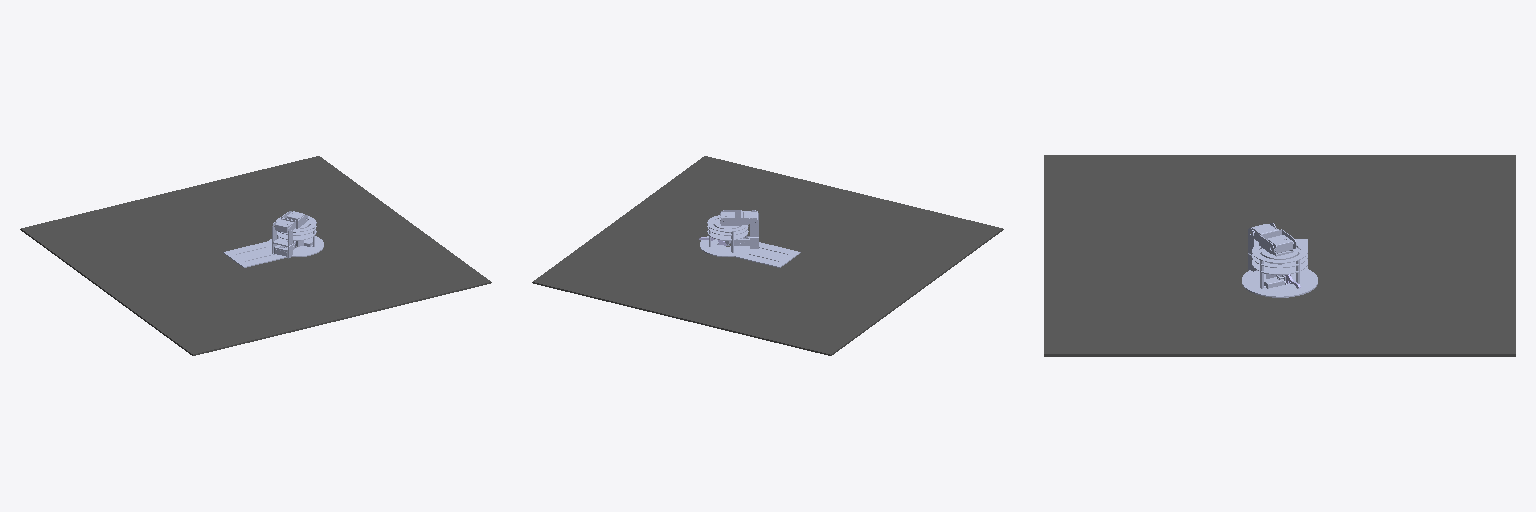
URDF robot description (buzz_arm):
<?xml version="1.0" encoding="utf-8"?>
<!-- This URDF was automatically created by SolidWorks to URDF Exporter! Originally created by Stephen Brawner (brawner@gmail.com) 
     Commit Version: 1.6.0-4-g7f85cfe  Build Version: 1.6.7995.38578
     For more information, please see http://wiki.ros.org/sw_urdf_exporter -->
<robot
  name="buzz_arm">
  <link
    name="base_link">
    <inertial>
      <origin
        xyz="0.097254 -0.0016458 0.017214"
        rpy="0 0 0" />
      <mass
        value="0.50845" />
      <inertia
        ixx="0.00087178"
        ixy="-1.41E-06"
        ixz="-0.00024544"
        iyy="0.0027281"
        iyz="-1.0365E-06"
        izz="0.0031309" />
    </inertial>
    <visual>
      <origin
        xyz="0 0 0"
        rpy="0 0 0" />
      <geometry>
        <mesh
          filename="package://buzz_arm_description/meshes/base_link.STL" />
      </geometry>
      <material
        name="">
        <color
          rgba="0.79216 0.81961 0.93333 1" />
      </material>
    </visual>
    <collision>
      <origin
        xyz="0 0 0"
        rpy="0 0 0" />
      <geometry>
        <mesh
          filename="package://buzz_arm_description/meshes/base_link.STL" />
      </geometry>
    </collision>
  </link>
  <link
    name="Link_1">
    <inertial>
      <origin
        xyz="1.1384E-05 1.4153E-05 0.009275"
        rpy="0 0 0" />
      <mass
        value="0.18466" />
      <inertia
        ixx="6.645E-05"
        ixy="3.4413E-07"
        ixz="2.1539E-08"
        iyy="6.6048E-05"
        iyz="1.2436E-08"
        izz="0.00012603" />
    </inertial>
    <visual>
      <origin
        xyz="0 0 0"
        rpy="0 0 0" />
      <geometry>
        <mesh
          filename="package://buzz_arm_description/meshes/Link_1.STL" />
      </geometry>
      <material
        name="">
        <color
          rgba="0.79216 0.81961 0.93333 1" />
      </material>
    </visual>
    <collision>
      <origin
        xyz="0 0 0"
        rpy="0 0 0" />
      <geometry>
        <mesh
          filename="package://buzz_arm_description/meshes/Link_1.STL" />
      </geometry>
    </collision>
  </link>
  <joint
    name="Revolute_1"
    type="revolute">
    <origin
      xyz="0.13407 0 0.06083"
      rpy="0 0 0" />
    <parent
      link="base_link" />
    <child
      link="Link_1" />
    <axis
      xyz="0 0 1" />
    <limit
      lower="0"
      upper="3.14159"
      effort="1.5"
      velocity="4.5" />
    <dynamics
      damping="0.05"
      friction="0.1" />
  </joint>
  <link
    name="Link_2">
    <inertial>
      <origin
        xyz="-0.057899 -1.3878E-17 0.00055042"
        rpy="0 0 0" />
      <mass
        value="0.061662" />
      <inertia
        ixx="2.268E-05"
        ixy="1.2326E-20"
        ixz="2.2166E-07"
        iyy="3.8426E-05"
        iyz="1.5325E-20"
        izz="2.0832E-05" />
    </inertial>
    <visual>
      <origin
        xyz="0 0 0"
        rpy="0 0 0" />
      <geometry>
        <mesh
          filename="package://buzz_arm_description/meshes/Link_2.STL" />
      </geometry>
      <material
        name="">
        <color
          rgba="0.79216 0.81961 0.93333 1" />
      </material>
    </visual>
    <collision>
      <origin
        xyz="0 0 0"
        rpy="0 0 0" />
      <geometry>
        <mesh
          filename="package://buzz_arm_description/meshes/Link_2.STL" />
      </geometry>
    </collision>
  </link>
  <joint
    name="Revolute_2"
    type="revolute">
    <origin
      xyz="0.0085986 0.0054667 0.02675"
      rpy="1.5708 0 0.5236" />
    <parent
      link="Link_1" />
    <child
      link="Link_2" />
    <axis
      xyz="0 0 -1" />
    <limit
      lower="0"
      upper="3.05433"
      effort="1.5"
      velocity="4.5" />
    <dynamics
      damping="0.05"
      friction="0.1" />
  </joint>
  <link
    name="Link_3">
    <inertial>
      <origin
        xyz="0.0066591 -0.082336 0.00039702"
        rpy="0 0 0" />
      <mass
        value="0.1307" />
      <inertia
        ixx="5.6531E-05"
        ixy="1.2062E-21"
        ixz="5.5872E-09"
        iyy="5.1139E-05"
        iyz="2.3927E-20"
        izz="3.2837E-05" />
    </inertial>
    <visual>
      <origin
        xyz="0 0 0"
        rpy="0 0 0" />
      <geometry>
        <mesh
          filename="package://buzz_arm_description/meshes/Link_3.STL" />
      </geometry>
      <material
        name="">
        <color
          rgba="0.79216 0.81961 0.93333 1" />
      </material>
    </visual>
    <collision>
      <origin
        xyz="0 0 0"
        rpy="0 0 0" />
      <geometry>
        <mesh
          filename="package://buzz_arm_description/meshes/Link_3.STL" />
      </geometry>
    </collision>
  </link>
  <joint
    name="Revolute_3"
    type="revolute">
    <origin
      xyz="-0.08668 0 0.00087"
      rpy="0 0 0" />
    <parent
      link="Link_2" />
    <child
      link="Link_3" />
    <axis
      xyz="0 0 -1" />
    <limit
      lower="0"
      upper="3.15905"
      effort="1.5"
      velocity="4.5" />
    <dynamics
      damping="0.05"
      friction="0.1" />
  </joint>
  <link
    name="Link_4">
    <inertial>
      <origin
        xyz="0.018863 0.012979 0.00041813"
        rpy="0 0 0" />
      <mass
        value="0.082347" />
      <inertia
        ixx="1.9474E-05"
        ixy="8.0561E-07"
        ixz="-4.5867E-09"
        iyy="2.3704E-05"
        iyz="-6.4294E-09"
        izz="2.4868E-05" />
    </inertial>
    <visual>
      <origin
        xyz="0 0 0"
        rpy="0 0 0" />
      <geometry>
        <mesh
          filename="package://buzz_arm_description/meshes/Link_4.STL" />
      </geometry>
      <material
        name="">
        <color
          rgba="0.79216 0.81961 0.93333 1" />
      </material>
    </visual>
    <collision>
      <origin
        xyz="0 0 0"
        rpy="0 0 0" />
      <geometry>
        <mesh
          filename="package://buzz_arm_description/meshes/Link_4.STL" />
      </geometry>
    </collision>
  </link>
  <joint
    name="Revolute_4"
    type="revolute">
    <origin
      xyz="0 -0.099 -0.00087"
      rpy="0 0 0" />
    <parent
      link="Link_3" />
    <child
      link="Link_4" />
    <axis
      xyz="0 0 -1" />
    <limit
      lower="0"
      upper="3.15905"
      effort="1.5"
      velocity="4.5" />
    <dynamics
      damping="0.05"
      friction="0.1" />
  </joint>
  <link
    name="Link_5">
    <inertial>
      <origin
        xyz="-0.003947 -0.018259 0.025684"
        rpy="0 0 0" />
      <mass
        value="0.053134" />
      <inertia
        ixx="8.5142E-06"
        ixy="6.9871E-09"
        ixz="1.3332E-08"
        iyy="1.0803E-05"
        iyz="7.4039E-10"
        izz="1.3976E-05" />
    </inertial>
    <visual>
      <origin
        xyz="0 0 0"
        rpy="0 0 0" />
      <geometry>
        <mesh
          filename="package://buzz_arm_description/meshes/Link_5.STL" />
      </geometry>
      <material
        name="">
        <color
          rgba="0.79216 0.81961 0.93333 1" />
      </material>
    </visual>
    <collision>
      <origin
        xyz="0 0 0"
        rpy="0 0 0" />
      <geometry>
        <mesh
          filename="package://buzz_arm_description/meshes/Link_5.STL" />
      </geometry>
    </collision>
  </link>
  <joint
    name="Revolute_5"
    type="revolute">
    <origin
      xyz="0.06237 0 0.000435"
      rpy="-1.5708 0 -1.5708" />
    <parent
      link="Link_4" />
    <child
      link="Link_5" />
    <axis
      xyz="0 0 -1" />
    <limit
      lower="0"
      upper="3.15905"
      effort="1.5"
      velocity="4.5" />
    <dynamics
      damping="0.05"
      friction="0.1" />
  </joint>
  <link
    name="Joint_RFinger">
    <inertial>
      <origin
        xyz="-0.012502 -0.021105 -0.0060164"
        rpy="0 0 0" />
      <mass
        value="0.0042283" />
      <inertia
        ixx="5.3471E-07"
        ixy="-2.2031E-07"
        ixz="1.033E-09"
        iyy="2.7707E-07"
        iyz="1.3462E-09"
        izz="8.0771E-07" />
    </inertial>
    <visual>
      <origin
        xyz="0 0 0"
        rpy="0 0 0" />
      <geometry>
        <mesh
          filename="package://buzz_arm_description/meshes/Joint_RFinger.STL" />
      </geometry>
      <material
        name="">
        <color
          rgba="0.82353 0.82353 1 1" />
      </material>
    </visual>
    <collision>
      <origin
        xyz="0 0 0"
        rpy="0 0 0" />
      <geometry>
        <mesh
          filename="package://buzz_arm_description/meshes/Joint_RFinger.STL" />
      </geometry>
    </collision>
  </link>
  <joint
    name="Revolute_RFinger"
    type="revolute">
    <origin
      xyz="-0.040562 0 0.044043"
      rpy="-3.087 -1.5708 -1.627" />
    <parent
      link="Link_5" />
    <child
      link="Joint_RFinger" />
    <axis
      xyz="0 0 -1" />
    <limit
      lower="0"
      upper="0.62832"
      effort="1.5"
      velocity="4.5" />
    <dynamics
      damping="0.05"
      friction="0.1" />
  </joint>
  <link
    name="Link_RFinger">
    <inertial>
      <origin
        xyz="0.000839201493488512 -0.00410798201228263 0.00237274137090851"
        rpy="0 0 0" />
      <mass
        value="0.00599736791043469" />
      <inertia
        ixx="2.42089492555939E-07"
        ixy="-2.24614229258946E-07"
        ixz="4.19118898581568E-07"
        iyy="1.64318228994709E-06"
        iyz="9.038809859373E-08"
        izz="1.52296342251296E-06" />
    </inertial>
    <visual>
      <origin
        xyz="0 0 0"
        rpy="0 0 0" />
      <geometry>
        <mesh
          filename="package://buzz_arm_description/meshes/Link_RFinger.STL" />
      </geometry>
      <material
        name="">
        <color
          rgba="0.823529411764706 0.823529411764706 1 1" />
      </material>
    </visual>
    <collision>
      <origin
        xyz="0 0 0"
        rpy="0 0 0" />
      <geometry>
        <mesh
          filename="package://buzz_arm_description/meshes/Link_RFinger.STL" />
      </geometry>
    </collision>
  </link>
  <joint
    name="Link_RFinger"
    type="fixed">
    <origin
      xyz="0.019619 -0.0099553 0.0025"
      rpy="1.0788 0 2.672" />
    <parent
      link="Joint_RFinger" />
    <child
      link="Link_RFinger" />
    <axis
      xyz="0 0 0" />
  </joint>
  <link
    name="Joint_LFinger">
    <inertial>
      <origin
        xyz="-0.0122706285367348 -0.0212400470250521 0.00606962107186289"
        rpy="0 0 0" />
      <mass
        value="0.00422828715450971" />
      <inertia
        ixx="5.39489654753294E-07"
        ixy="-2.17439310468456E-07"
        ixz="1.01821288783147E-09"
        iyy="2.72285288493111E-07"
        iyz="1.35741631786404E-09"
        izz="8.07707307315944E-07" />
    </inertial>
    <visual>
      <origin
        xyz="0 0 0"
        rpy="0 0 0" />
      <geometry>
        <mesh
          filename="package://buzz_arm_description/meshes/Joint_LFinger.STL" />
      </geometry>
      <material
        name="">
        <color
          rgba="0.823529411764706 0.823529411764706 1 1" />
      </material>
    </visual>
    <collision>
      <origin
        xyz="0 0 0"
        rpy="0 0 0" />
      <geometry>
        <mesh
          filename="package://buzz_arm_description/meshes/Joint_LFinger.STL" />
      </geometry>
    </collision>
  </link>
  <joint
    name="Mimic_LFinger"
    type="revolute">
    <origin
      xyz="0.040967 0 0.043761"
      rpy="-0.14 -1.5708 -1.4155" />
    <parent
      link="Link_5" />
    <child
      link="Joint_LFinger" />
    <axis
      xyz="0 0 -1" />
    <limit
      lower="0"
      upper="0.62832"
      effort="1.5"
      velocity="4.5" />
    <dynamics
      damping="0.05"
      friction="0.1" />
    <mimic
      joint="Revolute_RFinger"
      multiplier="1"
      offset="0" />
  </joint>
  <link
    name="Link_LFinger">
    <inertial>
      <origin
        xyz="0.000839201493488123 0.00390818923858993 0.00268914014172311"
        rpy="0 0 0" />
      <mass
        value="0.00599736791043469" />
      <inertia
        ixx="2.42089492555934E-07"
        ixy="1.90881636919817E-07"
        ixz="4.35518545897441E-07"
        iyy="1.65663944221304E-06"
        iyz="-7.9819232118462E-08"
        izz="1.50950627024703E-06" />
    </inertial>
    <visual>
      <origin
        xyz="0 0 0"
        rpy="0 0 0" />
      <geometry>
        <mesh
          filename="package://buzz_arm_description/meshes/Link_LFinger.STL" />
      </geometry>
      <material
        name="">
        <color
          rgba="0.823529411764706 0.823529411764706 1 1" />
      </material>
    </visual>
    <collision>
      <origin
        xyz="0 0 0"
        rpy="0 0 0" />
      <geometry>
        <mesh
          filename="package://buzz_arm_description/meshes/Link_LFinger.STL" />
      </geometry>
    </collision>
  </link>
  <joint
    name="Link_LFinger"
    type="fixed">
    <origin
      xyz="0.019526277278889 -0.0101353093503823 -0.00250000000000036"
      rpy="1.98386621683787 0 2.66281357610462" />
    <parent
      link="Joint_LFinger" />
    <child
      link="Link_LFinger" />
    <axis
      xyz="0 0 0" />
  </joint>
  <link name="floor">
    <visual>
      <origin xyz="0 0 0" rpy="0 0 0" />
      <geometry>
        <box size="1.0 1.0 0.005" />
      </geometry>
      <material name="floor_material">
        <color rgba="0.4 0.4 0.4 0.3" />
      </material>
    </visual>
    <collision>
      <origin xyz="0 0 0" rpy="0 0 0" />
      <geometry>
        <box size="1.0 1.0 0.005" />
      </geometry>
    </collision>
  </link>
  <joint name="base_to_floor" type="fixed">
    <origin xyz="0 0 -0.0025" rpy="0 0 0" />
    <parent link="base_link" />
    <child link="floor" />
  </joint>

  <!-- Tool centre point: where the two fingertips meet when the gripper is
       closed. Measured from the finger meshes: 82 mm along Link_5 +Z, with
       negligible sideways offset. The link has no geometry; it exists only
       so planners and tf2 have a frame at the business end of the arm. -->
  <link name="tool0" />
  <joint name="Link_5_to_tool0" type="fixed">
    <origin xyz="0 0 0.082" rpy="0 0 0" />
    <parent link="Link_5" />
    <child link="tool0" />
  </joint>
</robot>

--- Render facts (derived) ---
The picture shows the robot from 3 angles, left to right: view 1: azimuth 30°, elevation 25°; view 2: azimuth 150°, elevation 25°; view 3: azimuth 270°, elevation 25°; orthographic projection.
Robot: buzz_arm — 12 links, 11 joints (7 revolute, 4 fixed); root link base_link; default pose: every joint at zero.
Visible links, largest first — view 1: floor, base_link; view 2: floor, base_link; view 3: floor, base_link, Link_1, Link_2.
Link boxes in pixels (<box>): floor: <box>20,156,491,355</box>; base_link: <box>223,216,323,267</box>; floor: <box>532,156,1003,355</box>; base_link: <box>700,215,800,267</box>; floor: <box>1044,155,1515,356</box>; base_link: <box>1242,239,1317,297</box>; Link_1: <box>1261,235,1298,263</box>; Link_2: <box>1251,224,1296,253</box>.
Bounding box of the posed robot: 1 × 1 × 0.1574 m (x, y, z).
10 mesh visuals loaded from 10 distinct referenced files (10 binary STL).
